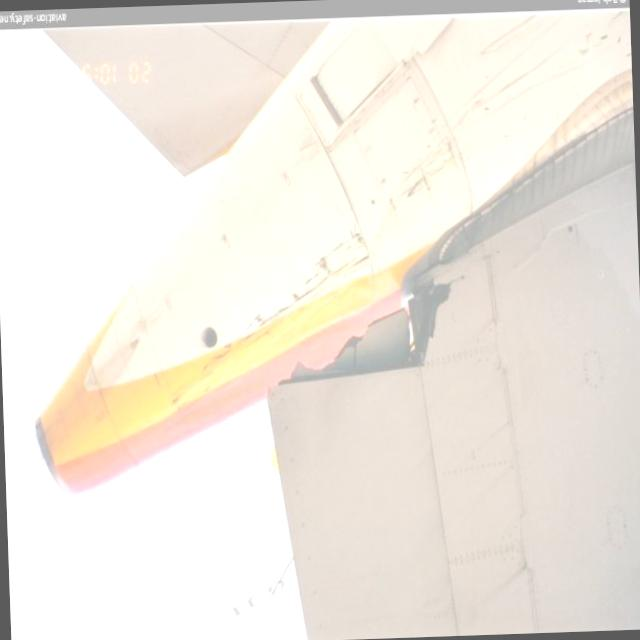crack: (273, 262, 467, 387)
